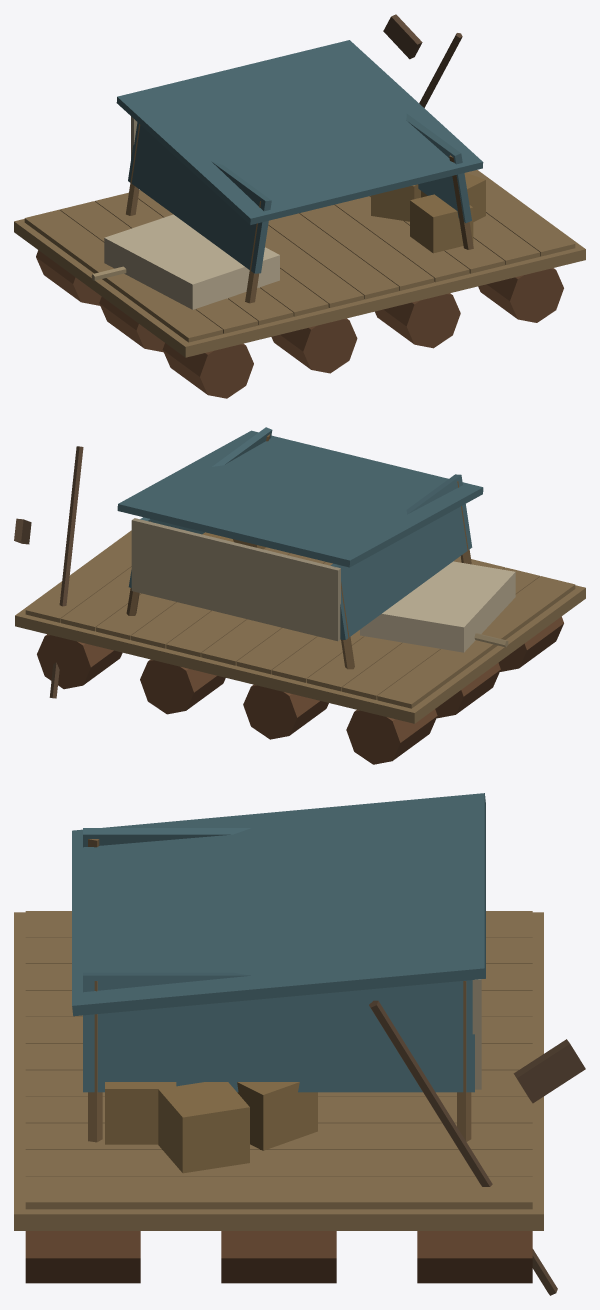
File: S_RaftHome.glb
3 renders of one model, top to bottom at view 1: azimuth 30°, elevation 25°; view 2: azimuth 150°, elevation 25°; view 3: azimuth 270°, elevation 25°, orthographic. The views are drawn at different scales.
Parts seen in each view (by area): view 1: S_RaftHome; view 2: S_RaftHome; view 3: S_RaftHome.
Part boxes in pixels (x1,y1,x2,y2): S_RaftHome: [14, 14, 585, 398]; S_RaftHome: [14, 427, 585, 764]; S_RaftHome: [14, 793, 585, 1295].
Size of the model in its own units: 6.3 by 3.03 by 4.96.
